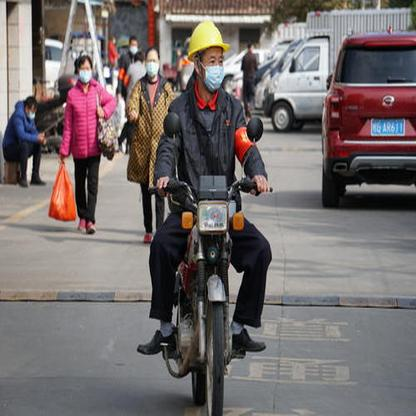target: (136, 21, 275, 414)
